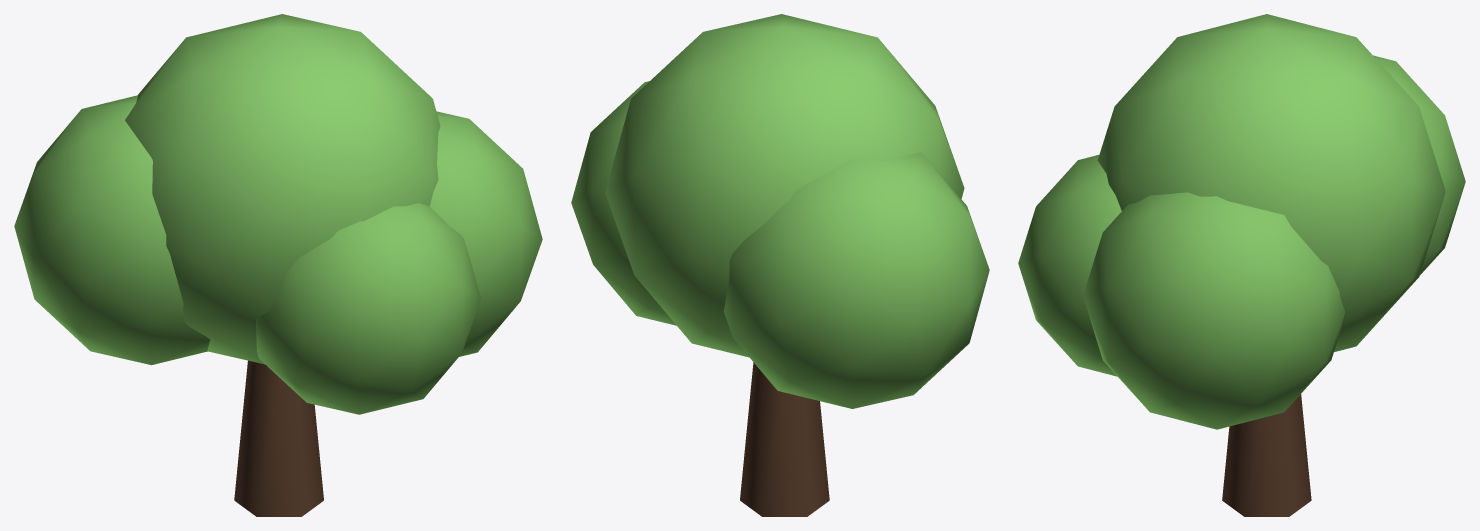
The model's file is oak_tree.glb.
3 views of the same model, side by side, from view 1: azimuth 30°, elevation 25°; view 2: azimuth 150°, elevation 25°; view 3: azimuth 270°, elevation 25° (orthographic).
Visible parts, largest first — view 1: oak_tree; view 2: oak_tree; view 3: oak_tree.
Part boxes in pixels (x1,y1,x2,y2): oak_tree: [14, 14, 542, 516]; oak_tree: [571, 14, 989, 516]; oak_tree: [1018, 14, 1465, 516].
Bounding box in the file's own units: 1.01 × 1.04 × 0.9.
